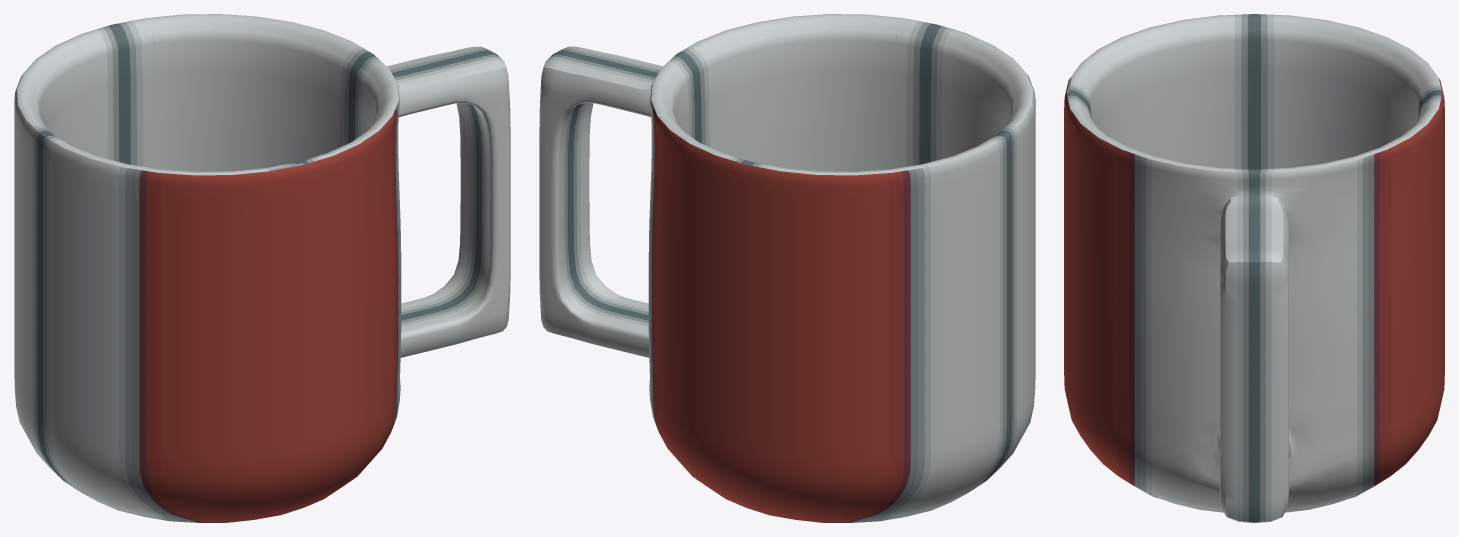
File: CANECA.fbx
The picture shows the model from 3 angles, left to right: view 1: azimuth 30°, elevation 25°; view 2: azimuth 150°, elevation 25°; view 3: azimuth 270°, elevation 25°; orthographic projection.
Visible parts, largest first — view 1: Cylinder; view 2: Cylinder; view 3: Cylinder.
Part boxes in pixels (<box>): Cylinder: <box>14,14,510,522</box>; Cylinder: <box>539,14,1035,522</box>; Cylinder: <box>1064,14,1444,522</box>.
Bounding box in the file's own units: 312 × 249 × 227.
Materials: 1 (1 with a texture image).
